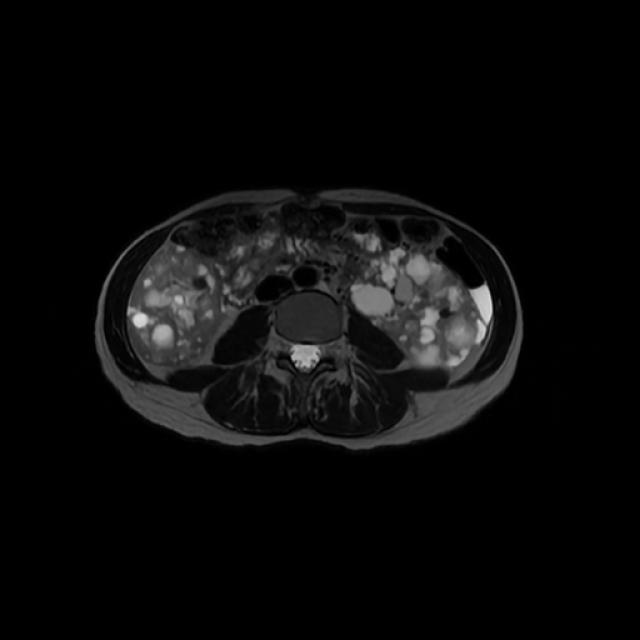sag: (126, 239, 232, 367)
sol: (349, 246, 486, 370)
